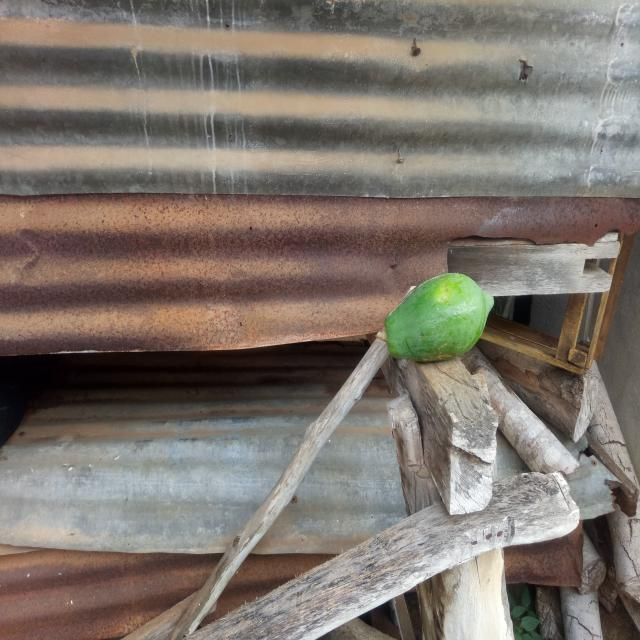Pepaya unrippen: (370, 265, 495, 366)
